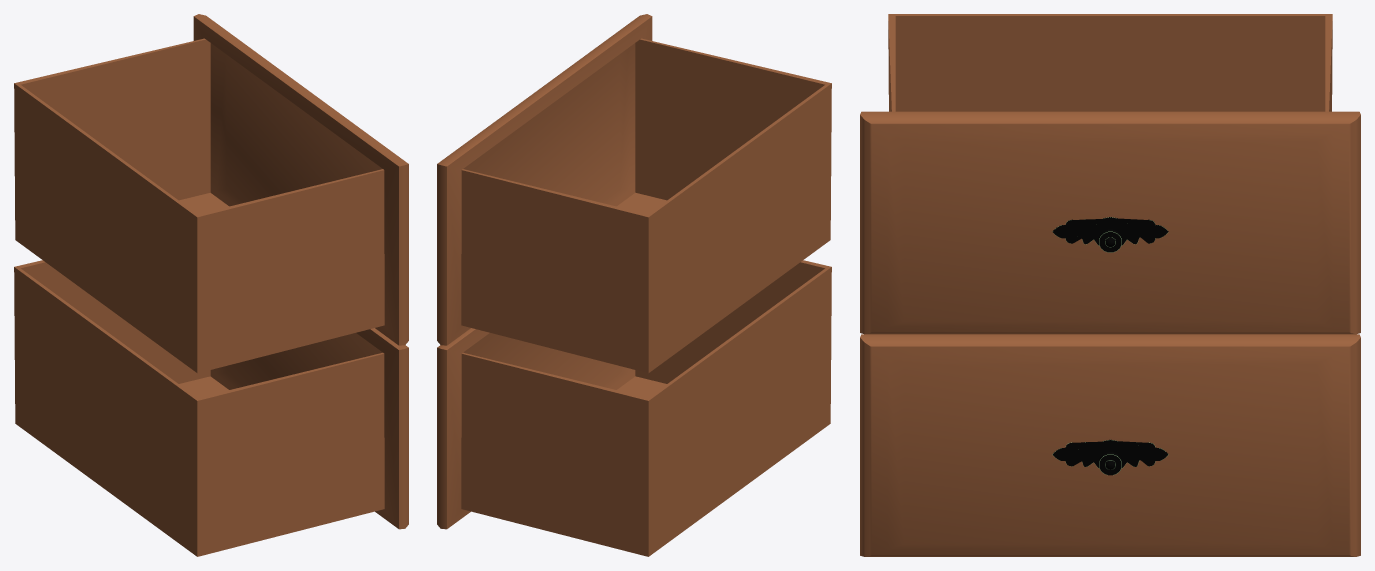
The model's file is xkaffa.fbx.
3 views of the same model, side by side, from view 1: azimuth 30°, elevation 25°; view 2: azimuth 150°, elevation 25°; view 3: azimuth 270°, elevation 25° (orthographic). The views are drawn at different scales.
Parts seen in each view (by area): view 1: Cylinder.001; view 2: Cylinder.001; view 3: Cylinder.001.
Boxes of the visible parts, x1,y1,x2,y2 form: Cylinder.001: (14,14,408,556); Cylinder.001: (437,14,831,556); Cylinder.001: (860,14,1360,556).
Bounding box in the file's own units: 239 × 366 × 377.
